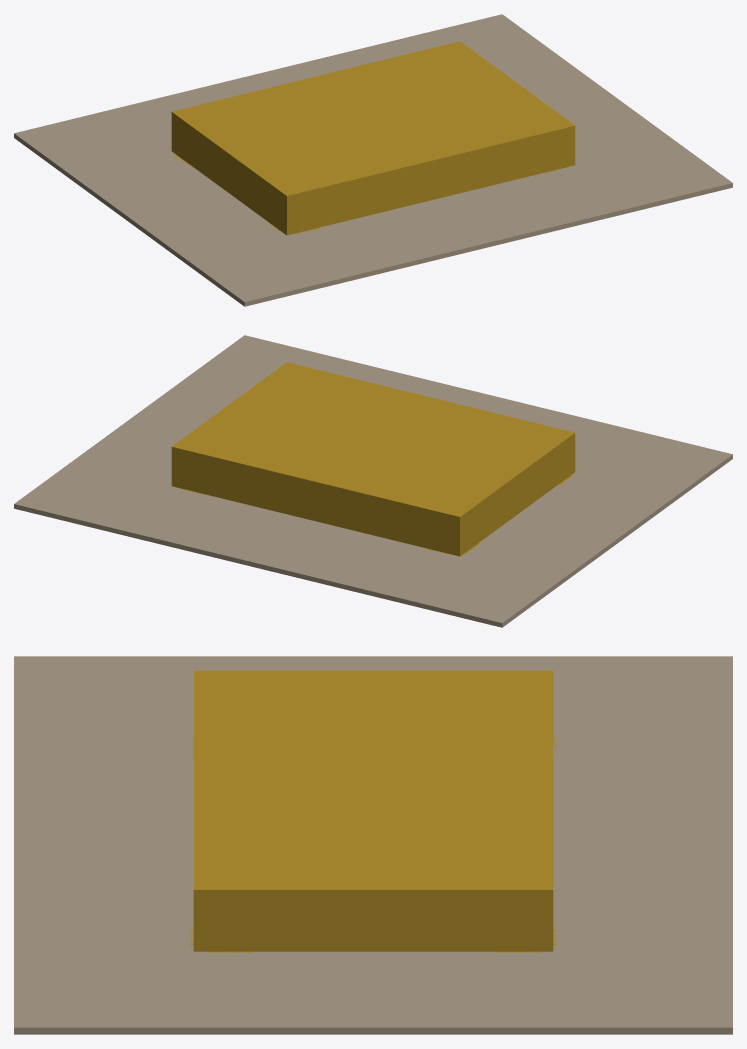
The model's file is stage_02_foundation.glb.
3 renders of one model, top to bottom at view 1: azimuth 30°, elevation 25°; view 2: azimuth 150°, elevation 25°; view 3: azimuth 270°, elevation 25°, orthographic. The views are drawn at different scales.
Parts seen in each view (by area): view 1: world; view 2: world; view 3: world.
Part boxes in pixels (x1,y1,x2,y2): world: (14, 14, 732, 306); world: (14, 335, 732, 627); world: (14, 656, 732, 1034).
Bounding box in the file's own units: 11 × 1.65 × 9.
